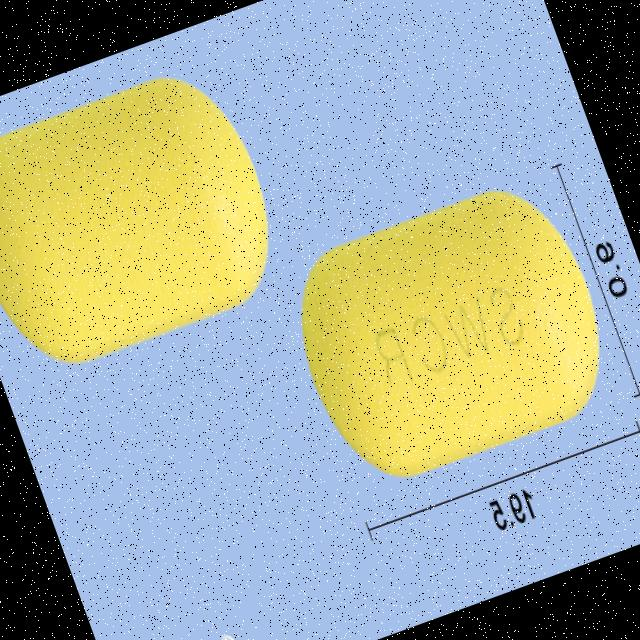Clath: (268, 165, 630, 500), (0, 54, 301, 391)
